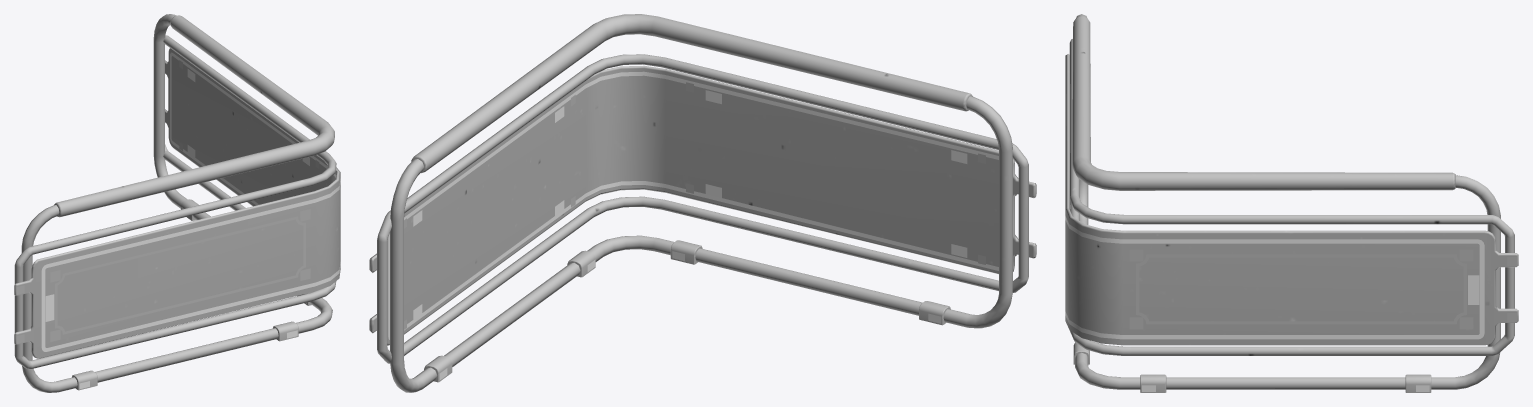
File: SM_Fence_3_Merged.fbx
The picture shows the model from 3 angles, left to right: view 1: azimuth 30°, elevation 25°; view 2: azimuth 150°, elevation 25°; view 3: azimuth 270°, elevation 25°; orthographic projection. The views are drawn at different scales.
Visible parts, largest first — view 1: SM_Fence_3_Merged_LOD0; view 2: SM_Fence_3_Merged_LOD0; view 3: SM_Fence_3_Merged_LOD0.
Part boxes in pixels (x1,y1,x2,y2): SM_Fence_3_Merged_LOD0: [14, 14, 340, 392]; SM_Fence_3_Merged_LOD0: [369, 14, 1036, 392]; SM_Fence_3_Merged_LOD0: [1065, 14, 1518, 392].
Size of the model in its own units: 203 by 204 by 107.
